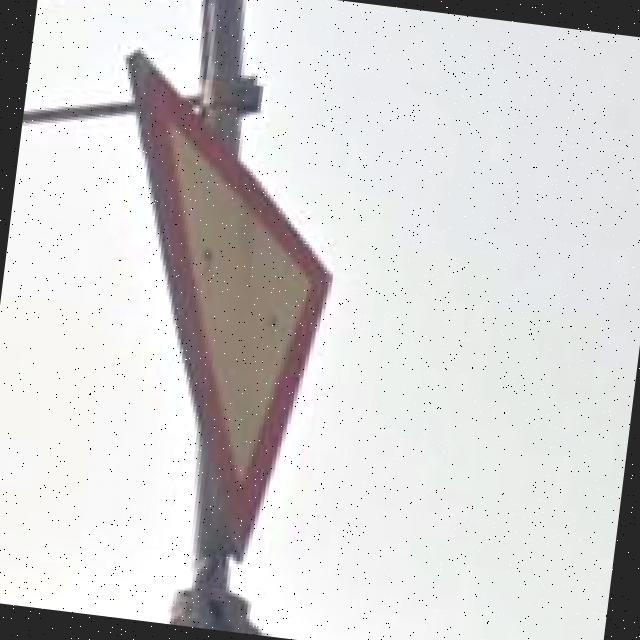Ustap pierwszenstwa: (70, 49, 360, 572)
